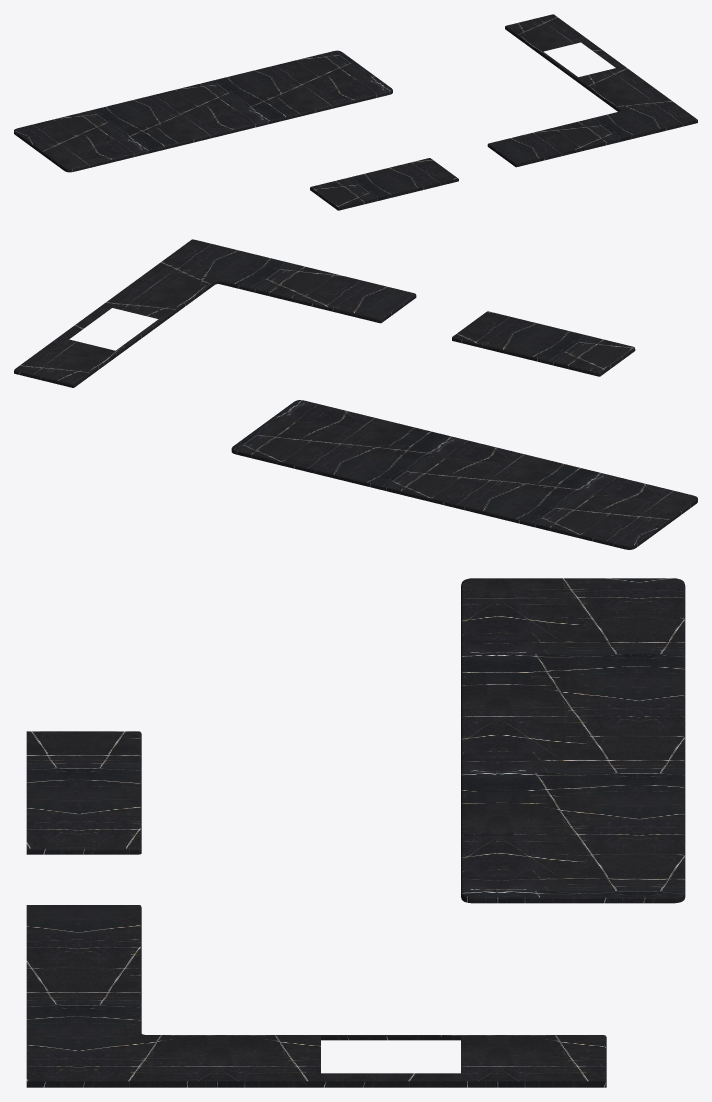
File: Countertops_QuartzEtNoir.glb
3 views of the same model, one above another, from view 1: azimuth 30°, elevation 25°; view 2: azimuth 150°, elevation 25°; view 3: azimuth 270°, elevation 25° (orthographic). The views are drawn at different scales.
Parts seen in each view (by area): view 1: Countertops_Quartz Et Noir; view 2: Countertops_Quartz Et Noir; view 3: Countertops_Quartz Et Noir.
Boxes of the visible parts, x1,y1,x2,y2 form: Countertops_Quartz Et Noir: (14,14,697,210); Countertops_Quartz Et Noir: (14,239,697,549); Countertops_Quartz Et Noir: (26,578,685,1087).
Bounding box in the file's own units: 8.6 × 0.09 × 4.7.
1 material, 1 textured.
